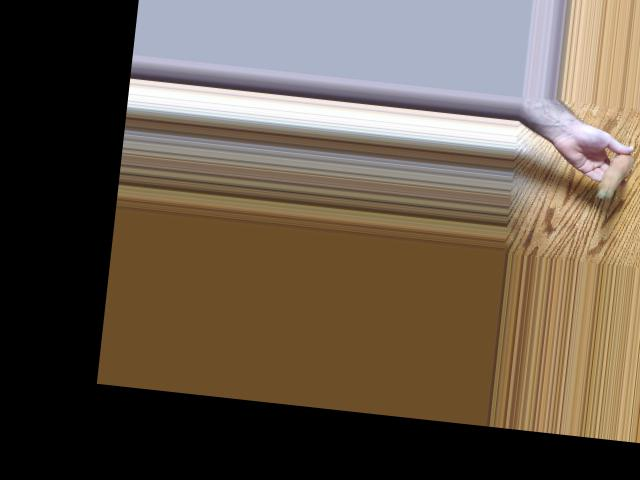sweet_potato: (593, 147, 634, 202)
